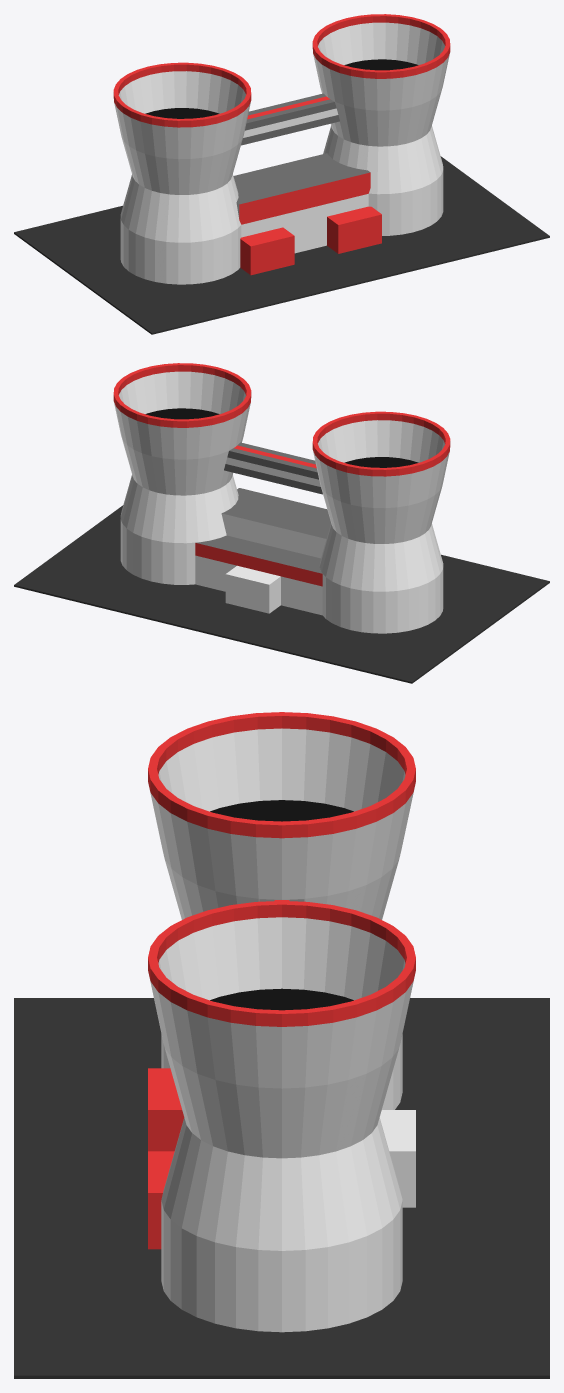
Rendered from PowerPlantNuclear.fbx.
3 views of the same model, one above another, from view 1: azimuth 30°, elevation 25°; view 2: azimuth 150°, elevation 25°; view 3: azimuth 270°, elevation 25° (orthographic). The views are drawn at different scales.
Parts seen in each view (by area): view 1: Chimney2, Base, Chimney1, MainBuilding, ChimneyBridge; view 2: Chimney2, Base, Chimney1, MainBuilding, ChimneyBridge; view 3: Base, Chimney1, Chimney2, MainBuilding.
Boxes of the visible parts, x1,y1,x2,y2 form: Chimney2: [113, 62, 251, 284]; Base: [14, 156, 549, 334]; Chimney1: [312, 14, 450, 235]; MainBuilding: [233, 153, 381, 275]; ChimneyBridge: [241, 93, 339, 145]; Chimney2: [312, 411, 450, 633]; Base: [14, 505, 549, 683]; Chimney1: [113, 363, 251, 584]; MainBuilding: [195, 488, 330, 615]; ChimneyBridge: [224, 442, 322, 494]; Base: [14, 998, 549, 1378]; Chimney1: [148, 901, 415, 1332]; Chimney2: [148, 712, 415, 1109]; MainBuilding: [148, 1068, 415, 1249].
Size of the model in its own units: 500 by 202 by 300.
